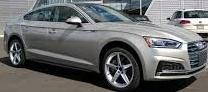Cars: (4, 3, 208, 91)
